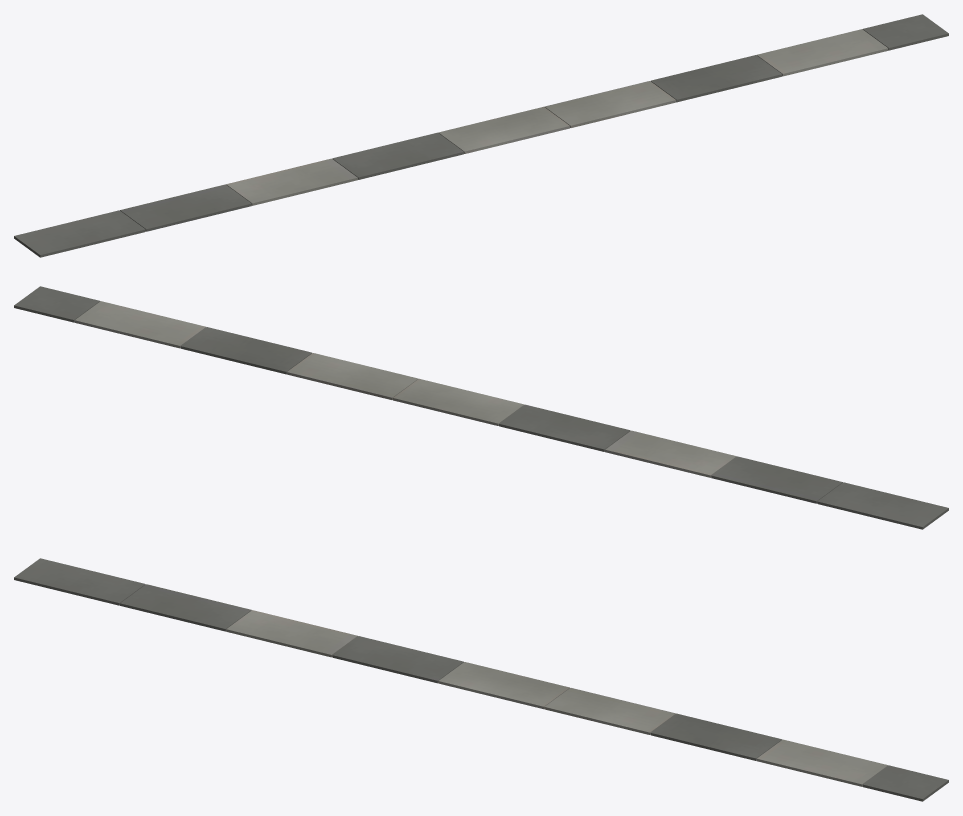
File: road_marking_dash_idle.glb
3 views of the same model, one above another, from view 1: azimuth 30°, elevation 25°; view 2: azimuth 150°, elevation 25°; view 3: azimuth 330°, elevation 25° (orthographic).
Visible parts, largest first — view 1: road_marking_dash; view 2: road_marking_dash; view 3: road_marking_dash.
Boxes of the visible parts, <box> form: road_marking_dash: <box>14,14,948,257</box>; road_marking_dash: <box>14,286,948,529</box>; road_marking_dash: <box>14,558,948,801</box>.
Bounding box in the file's own units: 3 × 0.008 × 0.15.
1 material, 1 textured.
